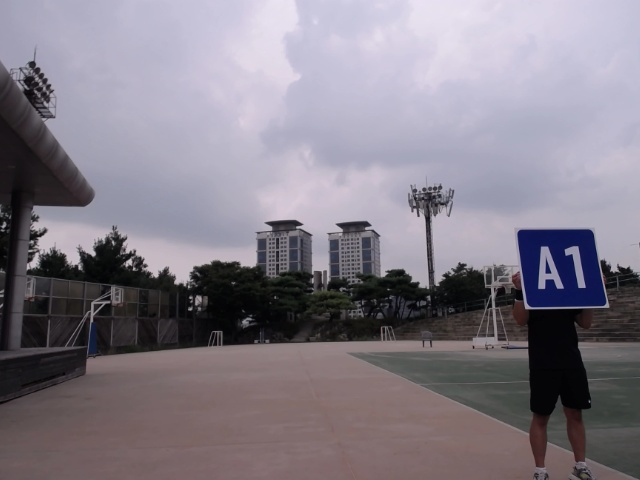delivery_a1: (517, 228, 608, 309)
